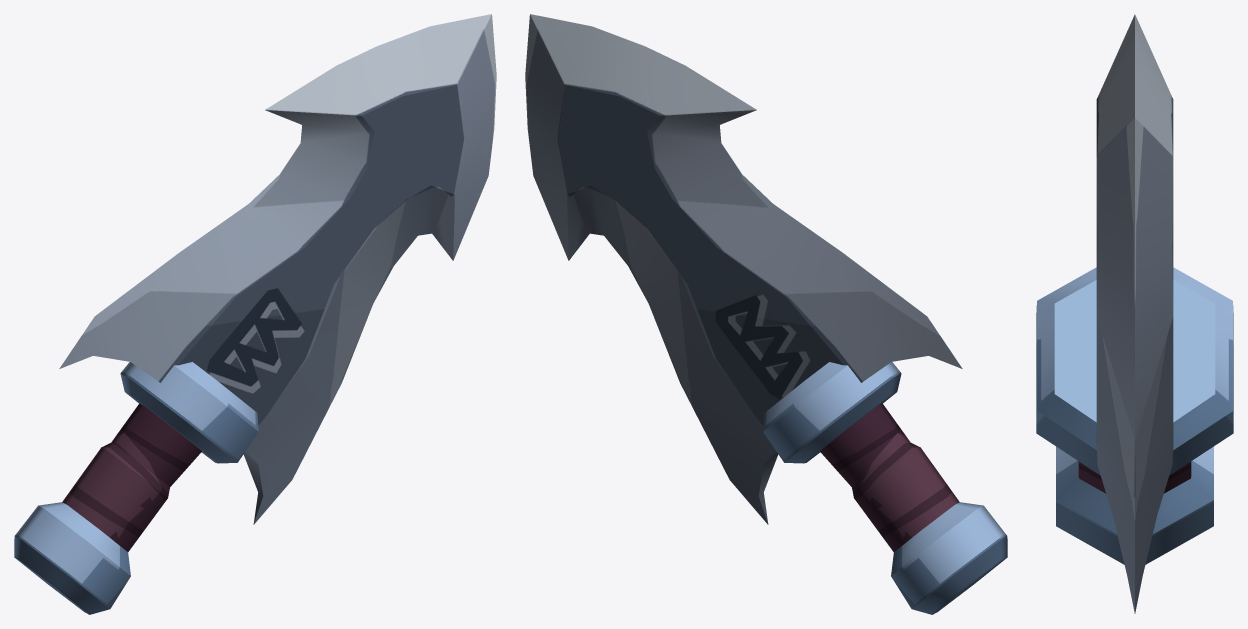
The model's file is Rune_01.FBX.
3 renders of one model, left to right at view 1: azimuth 30°, elevation 25°; view 2: azimuth 150°, elevation 25°; view 3: azimuth 270°, elevation 25°, orthographic. The views are drawn at different scales.
Visible parts, largest first — view 1: Rune_01; view 2: Rune_01; view 3: Rune_01.
Part boxes in pixels (box(x1,y1,x2,y2)): Rune_01: box(14, 14, 496, 614); Rune_01: box(525, 14, 1007, 614); Rune_01: box(1036, 14, 1233, 613).
Size of the model in its own units: 67.04 by 67.32 by 16.29.
